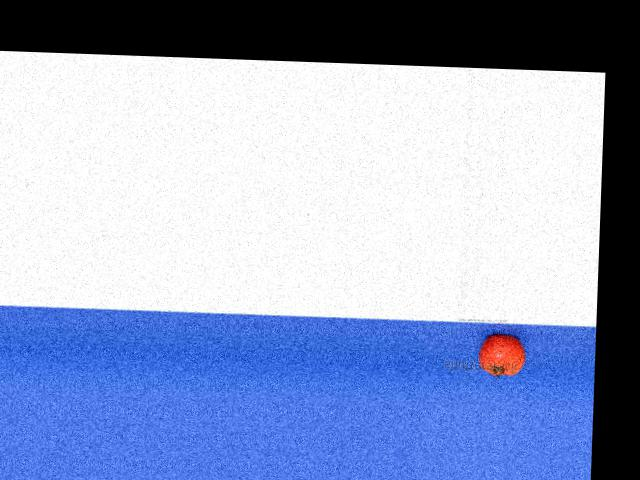tomato: (479, 333, 527, 376)
